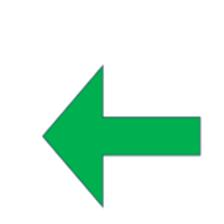left: (38, 60, 209, 211)
